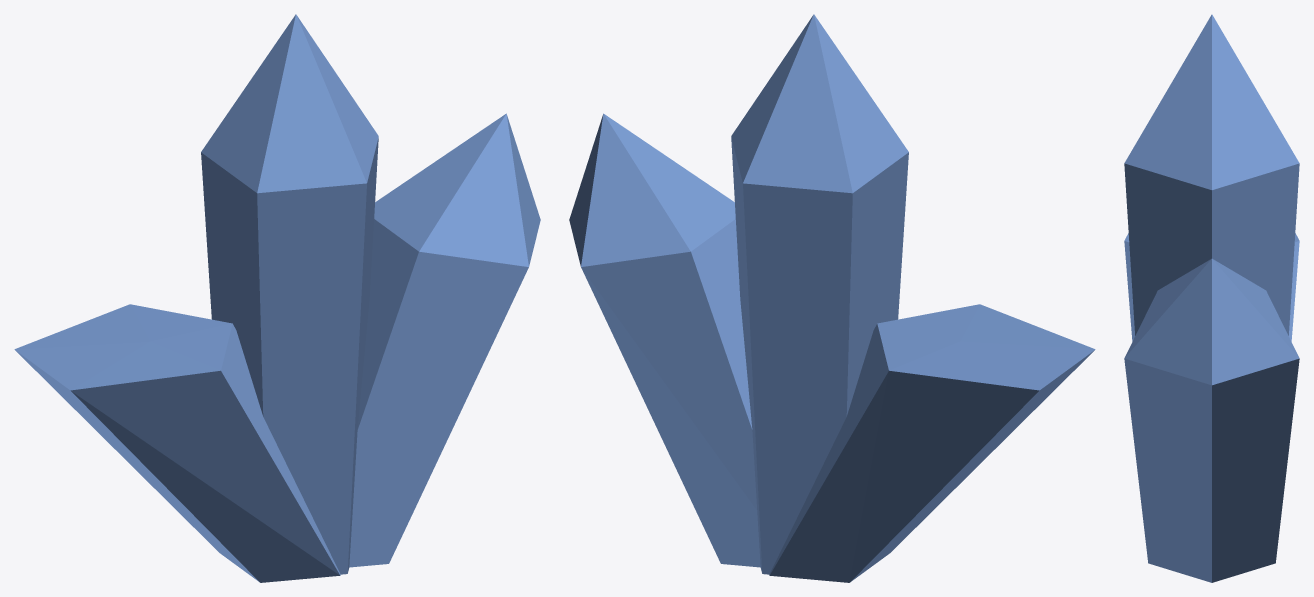
Rendered from ice.obj.
3 views of the same model, side by side, from view 1: azimuth 30°, elevation 25°; view 2: azimuth 150°, elevation 25°; view 3: azimuth 270°, elevation 25° (orthographic). The views are drawn at different scales.
Visible parts, largest first — view 1: Gengon001, Gengon002, Gengon003; view 2: Gengon001, Gengon002, Gengon003; view 3: Gengon002, Gengon001, Gengon003.
Boxes of the visible parts, bbox=[...] form: Gengon001: bbox=[201, 14, 378, 574]; Gengon002: bbox=[349, 113, 540, 567]; Gengon003: bbox=[14, 304, 340, 582]; Gengon001: bbox=[731, 14, 908, 574]; Gengon002: bbox=[569, 113, 760, 567]; Gengon003: bbox=[769, 304, 1095, 582]; Gengon002: bbox=[1124, 258, 1299, 582]; Gengon001: bbox=[1124, 14, 1299, 335]; Gengon003: bbox=[1124, 233, 1299, 341].
Bounding box in the file's own units: 2.36 × 2.45 × 0.7464.
